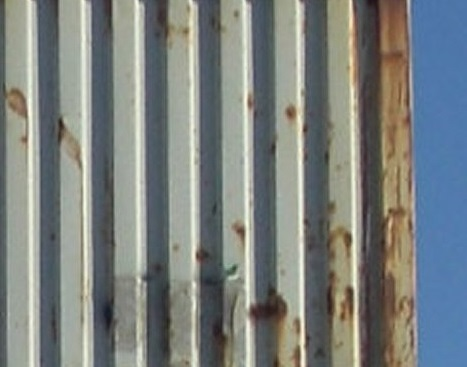container_no_door: (1, 2, 421, 364)
